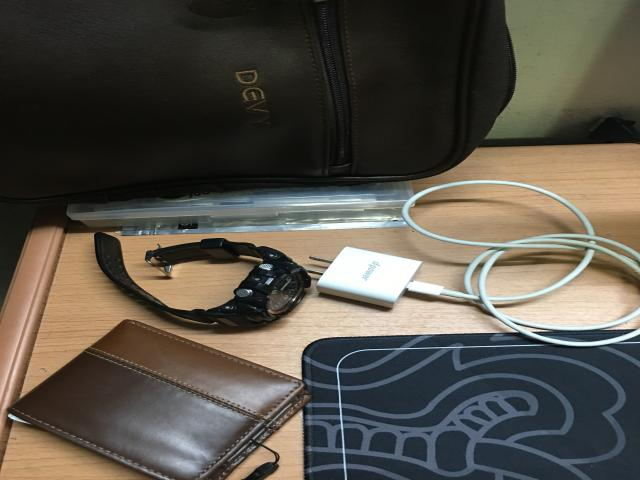Wallet: (8, 320, 312, 480)
Watch: (95, 232, 312, 326)
wire: (310, 180, 640, 347)
